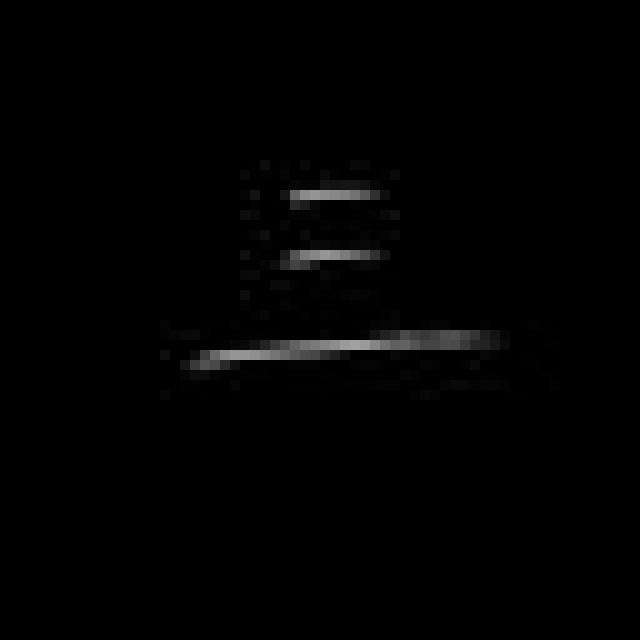3 -three-: (182, 173, 493, 384)
